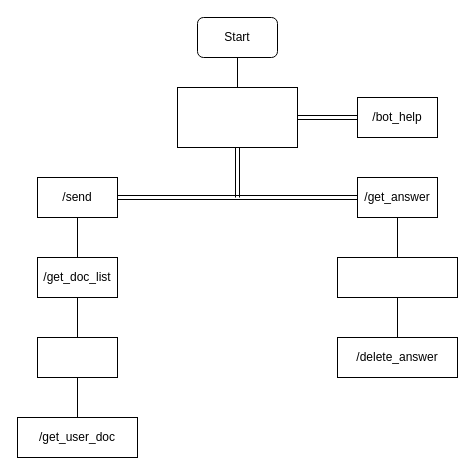
This 475x475 diagram has some shape labels left out. The shapes that lost their labels are listed below. From the top down, each one's centre as x and y in pixels, then its label:
At (237,117): "on_ready".
At (397,277): "/get_answer_list".
At (77,357): "/delete_doc".
